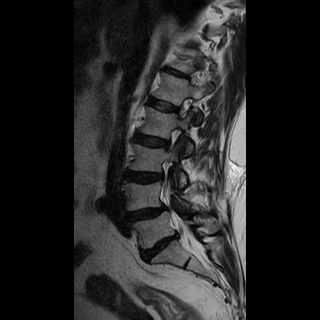RFS0: (161, 120, 188, 156), (171, 88, 196, 122)
